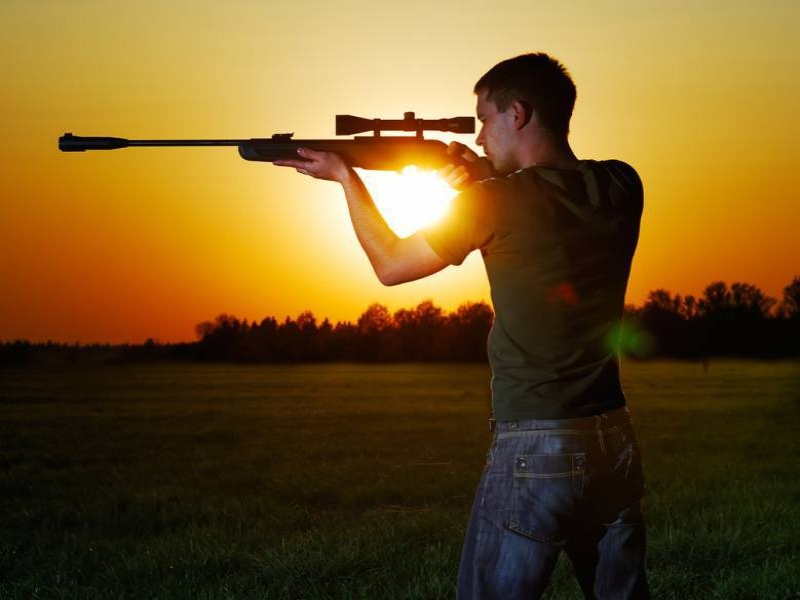person: (274, 52, 646, 600)
weapon: (59, 112, 495, 186)
